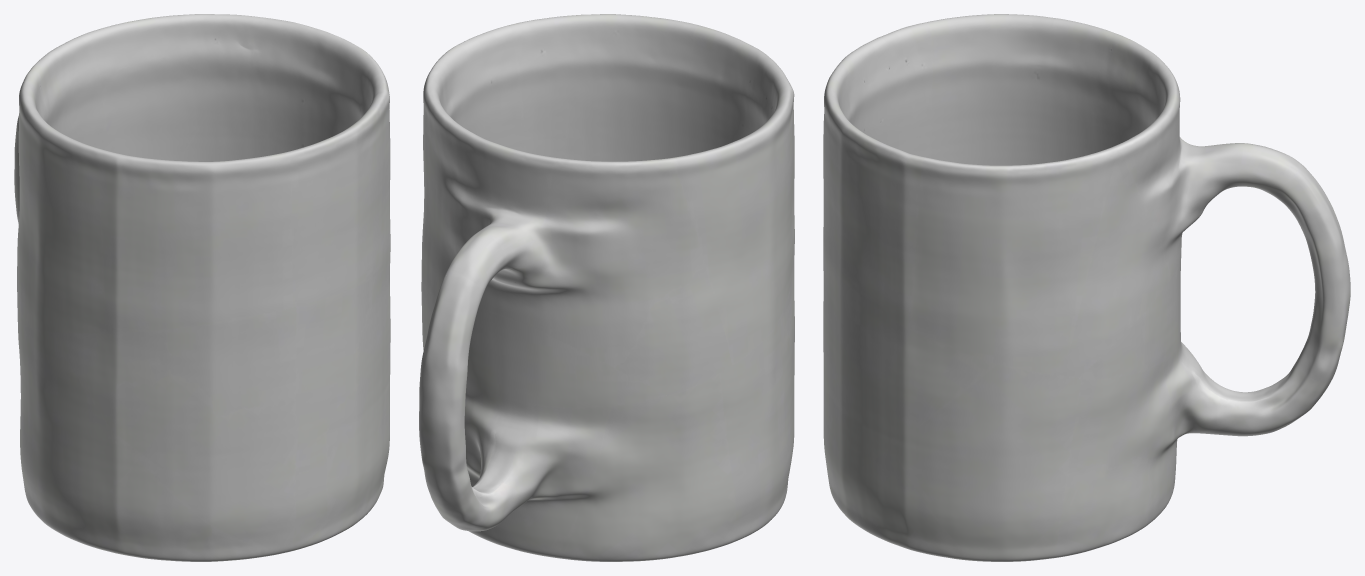
The model's file is putih.glb.
The picture shows the model from 3 angles, left to right: view 1: azimuth 30°, elevation 25°; view 2: azimuth 150°, elevation 25°; view 3: azimuth 270°, elevation 25°; orthographic projection.
Parts seen in each view (by area): view 1: Object_01; view 2: Object_01; view 3: Object_01.
Part boxes in pixels (x1,y1,x2,y2): Object_01: (14, 14, 390, 561); Object_01: (419, 14, 794, 561); Object_01: (823, 14, 1350, 561).
Size of the model in its own units: 0.7109 by 0.8324 by 1.
Materials: 1 (1 with a texture image).
